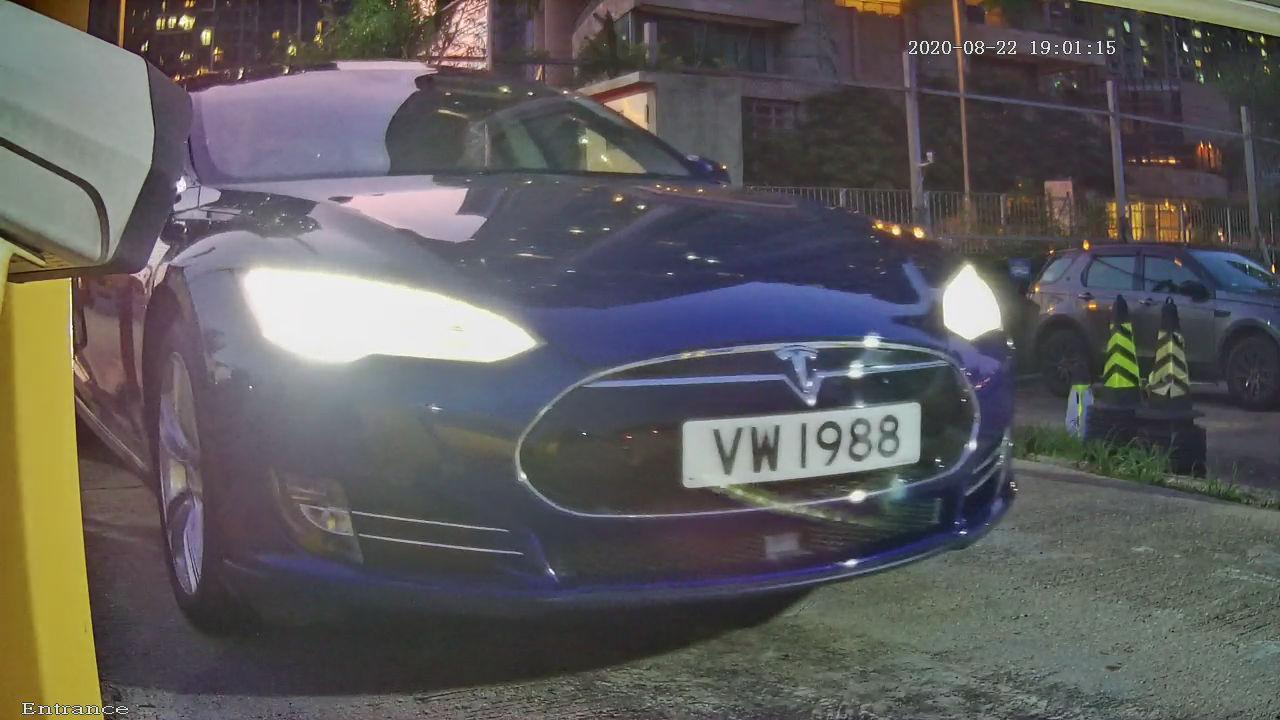Car: (63, 23, 1109, 650)
License Plate: (634, 363, 957, 511)
